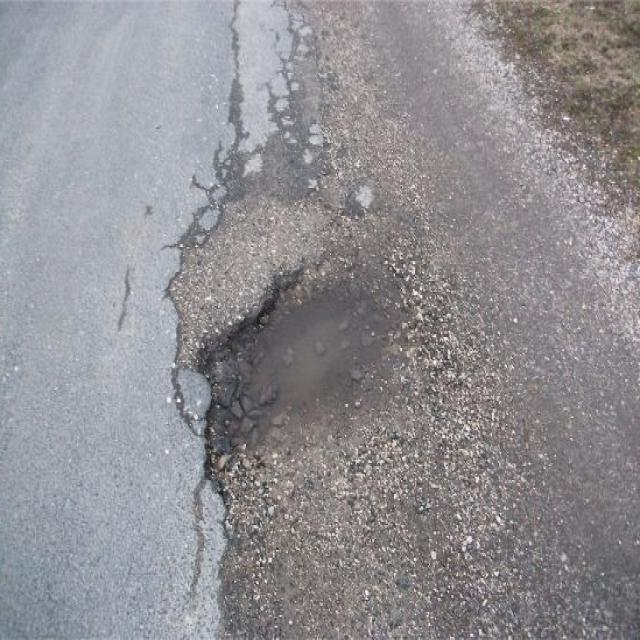Pothole: (169, 216, 436, 474)
